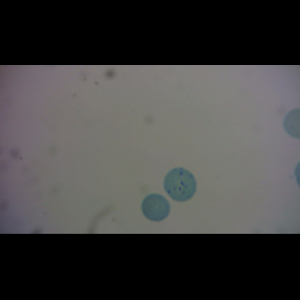erythrocyte: (141, 194, 171, 221)
punctate reticulocyte: (164, 166, 197, 202)
